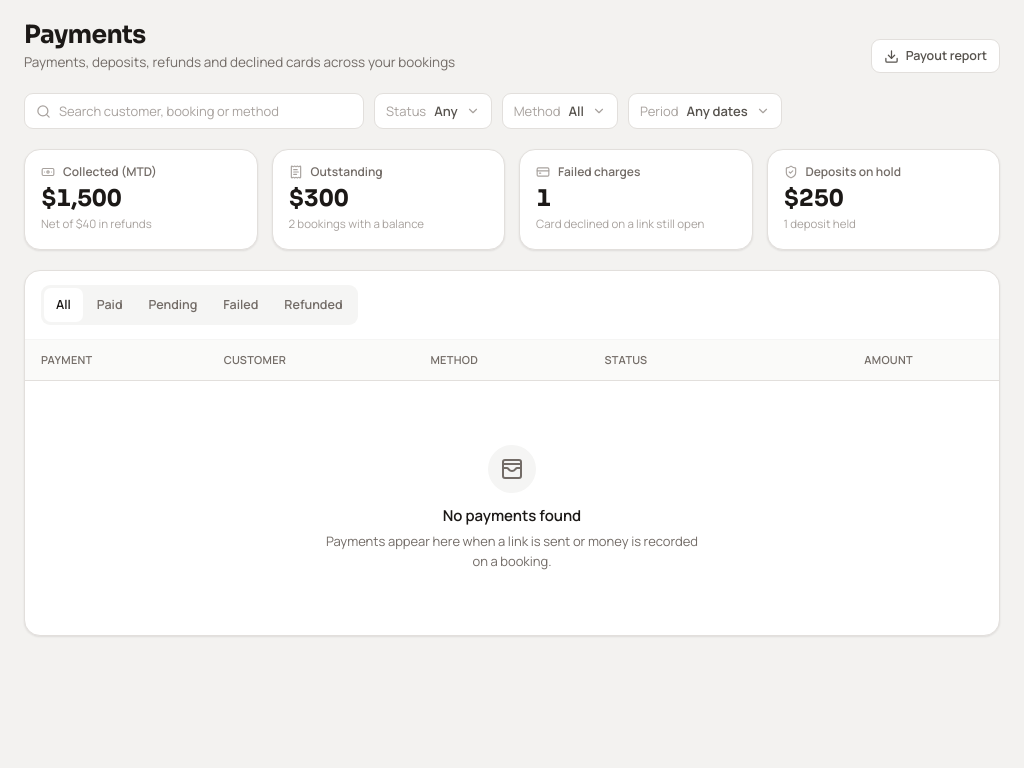
Test: the payment list › says nothing matches a tab, rather than how payments first appear
Check: the text "No payments found" is shown, box [443,505,581,526]
What coordinates should you click on to do the following:
click the tab "Failed"
I would click on:
 (241, 305)
Its box is [211,288,270,322].
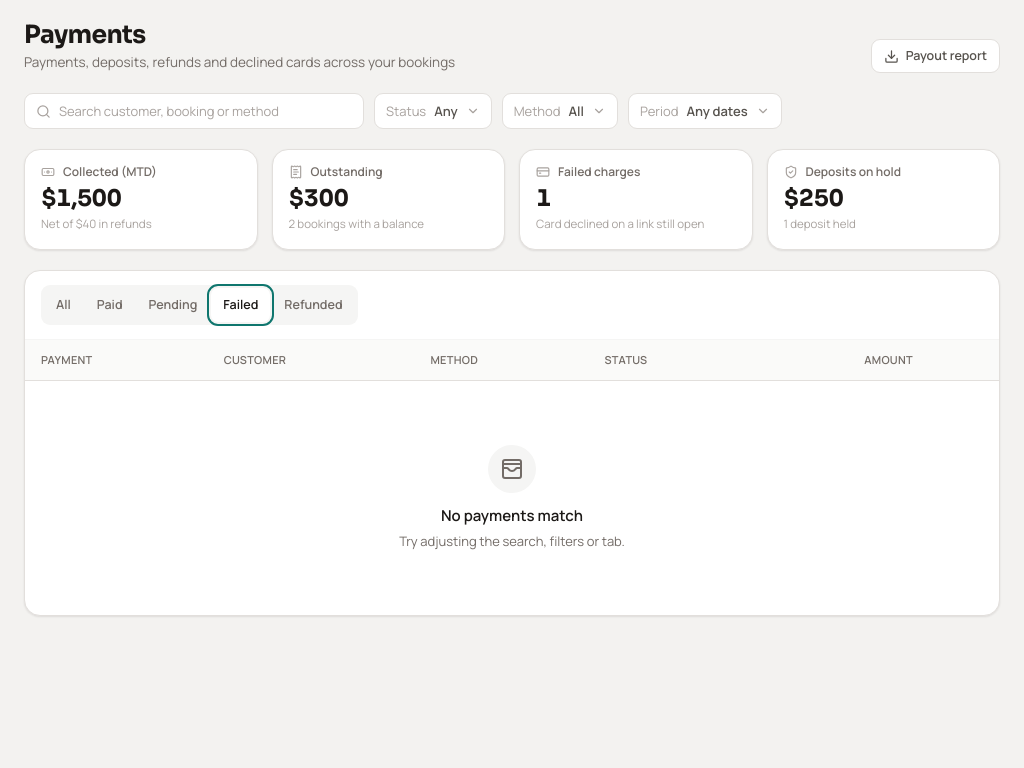
Check: the text "No payments match" is shown, box [441,505,583,526]
Check: the text "Payments appear here" is gone
